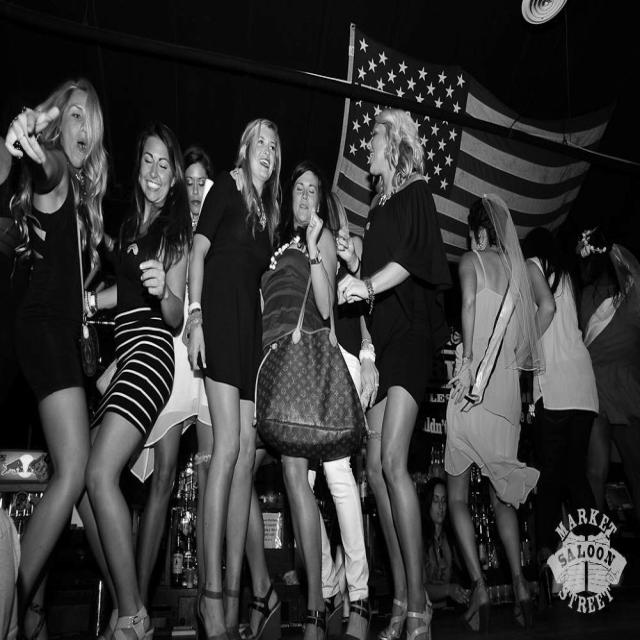person: (0, 103, 141, 640), (80, 119, 203, 640), (352, 119, 457, 627), (254, 134, 367, 606), (182, 124, 283, 636), (442, 188, 550, 632), (528, 201, 604, 611), (582, 214, 640, 602), (183, 149, 215, 225)
